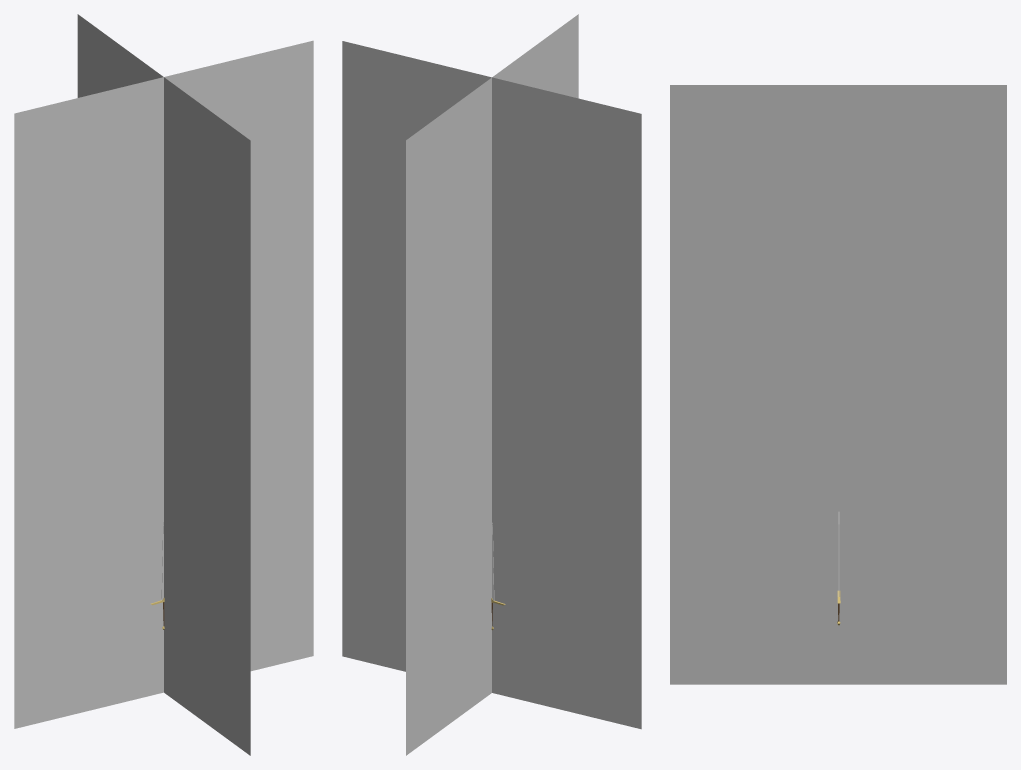
Rendered from Sword.fbx.
3 renders of one model, left to right at view 1: azimuth 30°, elevation 25°; view 2: azimuth 150°, elevation 25°; view 3: azimuth 270°, elevation 25°, orthographic. The views are drawn at different scales.
Visible parts, largest first — view 1: Plane, Plane.001; view 2: Plane, Plane.001; view 3: Plane.001.
Boxes of the visible parts, x1=… form: Plane: x1=14, y1=40, x2=313, y2=728; Plane.001: x1=77, y1=14, x2=250, y2=755; Plane: x1=342, y1=41, x2=641, y2=729; Plane.001: x1=406, y1=14, x2=578, y2=755; Plane.001: x1=670, y1=85, x2=1006, y2=684.
Bounding box in the file's own units: 2491 × 4895 × 2491.
2 materials, 1 textured.
